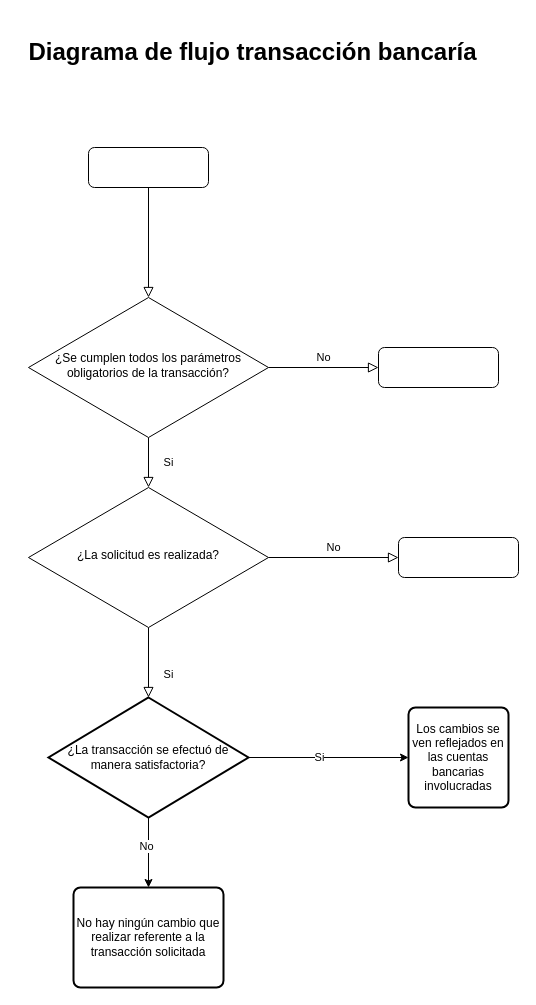
Image size: 536x1005. Some labels were removed from this diagram. The centre of each missing label's shape, as x and y in pixels:
No se puede realizar la transacción: (x=438, y=367)
No se realiza la transacción: (x=458, y=557)
Se comienza el proceso de una transacción bancaría: (x=148, y=167)
